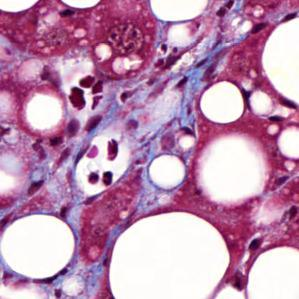steatosis: (0, 216, 80, 279), (199, 81, 245, 125)
